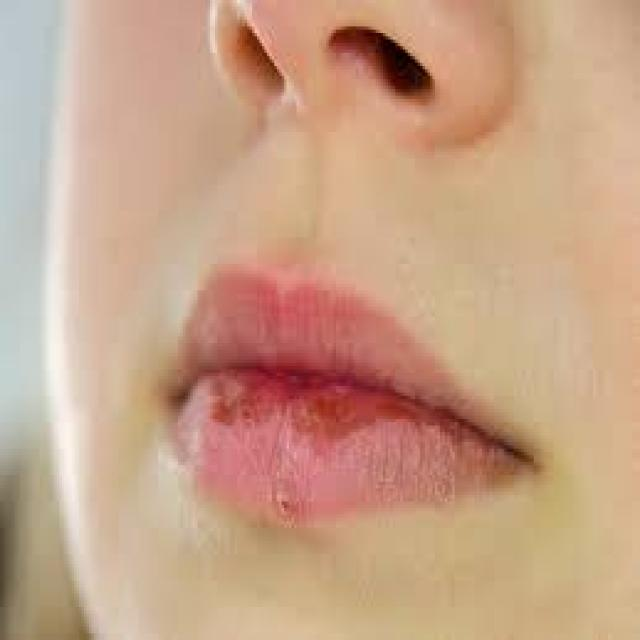burn: (171, 349, 480, 522)
